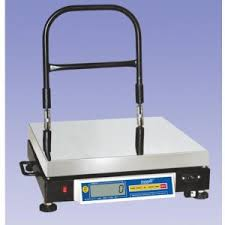Industrial Scale: (15, 4, 213, 212)
